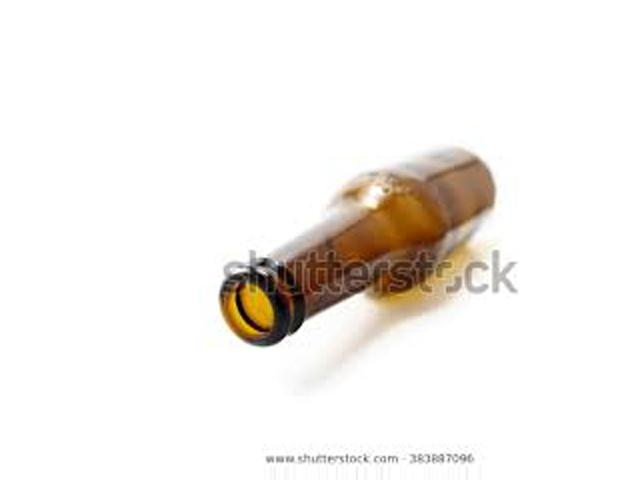beer: (218, 148, 496, 348)
